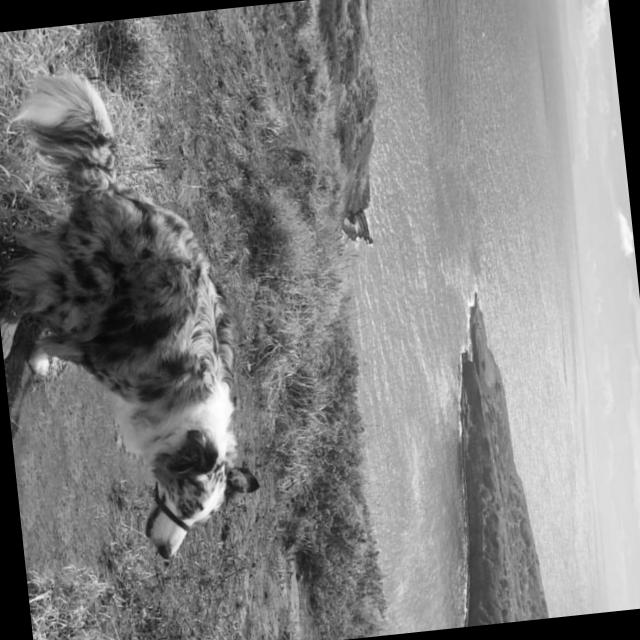squatting: (0, 47, 268, 574)
